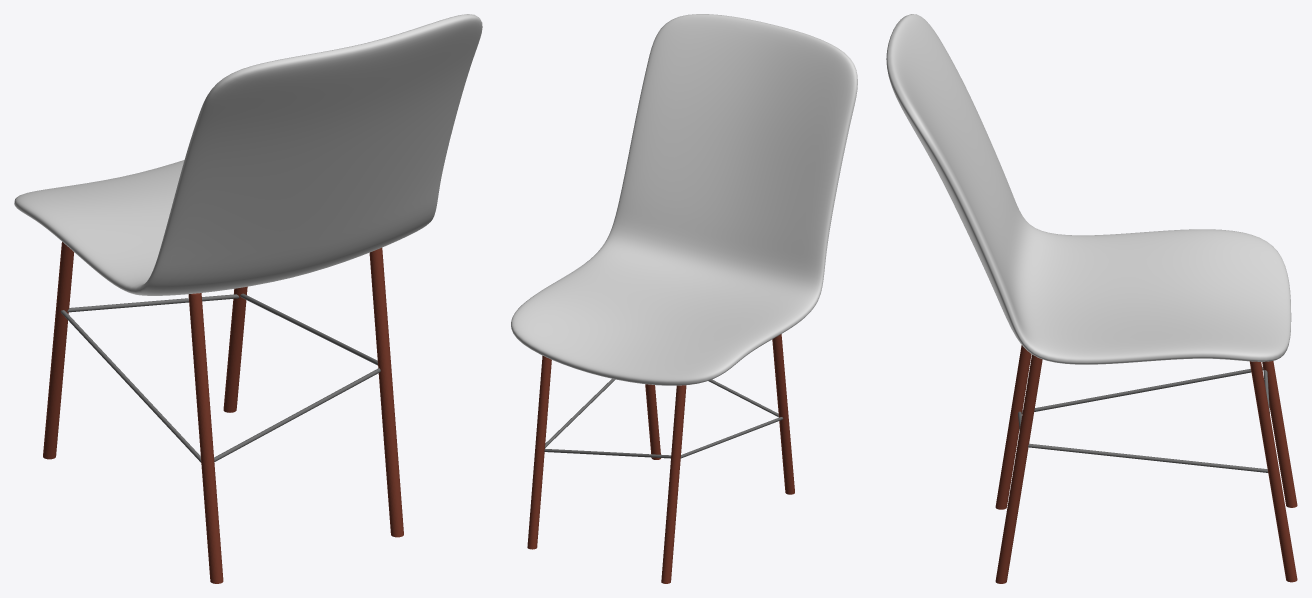
File: Sandalyetwo.fbx
The picture shows the model from 3 angles, left to right: view 1: azimuth 30°, elevation 25°; view 2: azimuth 150°, elevation 25°; view 3: azimuth 270°, elevation 25°; orthographic projection. The views are drawn at different scales.
Visible parts, largest first — view 1: Plane, Cylinder.001, Line; view 2: Plane, Cylinder.001, Line; view 3: Plane, Cylinder.001, Line.
Boxes of the visible parts, x1,y1,x2,y2 form: Plane: [14, 14, 482, 295]; Cylinder.001: [43, 242, 403, 583]; Line: [60, 293, 380, 462]; Plane: [511, 14, 857, 385]; Cylinder.001: [527, 334, 794, 583]; Line: [544, 378, 783, 458]; Plane: [886, 14, 1291, 364]; Cylinder.001: [995, 345, 1297, 583]; Line: [1018, 366, 1269, 472].
Bounding box in the file's own units: 155 × 283 × 216.
